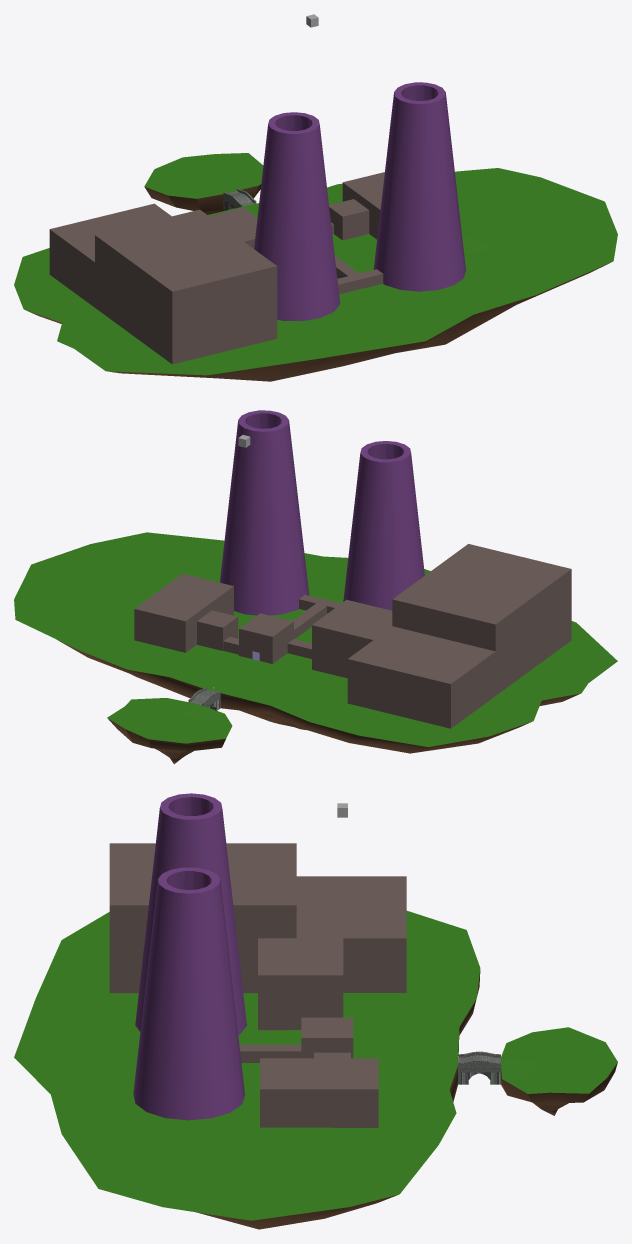
The model's file is factoryPast.fbx.
The picture shows the model from 3 angles, top to bottom: view 1: azimuth 30°, elevation 25°; view 2: azimuth 150°, elevation 25°; view 3: azimuth 270°, elevation 25°; orthographic projection. The views are drawn at different scales.
Parts seen in each view (by area): view 1: mainIsland, pCylinder5, pCylinder4, pCube39, pCube40, pCube41, spawnIsland, pCube34, pCube26, pCube15, pCube21, Bridge:Bridge; view 2: mainIsland, pCylinder5, pCylinder4, pCube39, pCube41, pCube34, spawnIsland, pCube38, pCube42, pCube26, pCube33, pCube22 (+6 smaller); view 3: mainIsland, pCylinder5, pCube34, pCube36, pCylinder4, spawnIsland, pCube41, pCube25, pCube31, pCube26, pCube10, Bridge:Bridge (+2 smaller).
Part boxes in pixels (x1,y1,x2,y2): mainIsland: (14, 168, 617, 381); pCylinder5: (373, 82, 465, 291); pCylinder4: (254, 112, 340, 320); pCube39: (50, 232, 173, 363); pCube40: (171, 266, 275, 364); pCube41: (98, 210, 275, 292); spawnIsland: (144, 153, 263, 214); pCube34: (49, 203, 257, 264); pCube26: (342, 172, 384, 211); pCube15: (344, 212, 369, 239); pCube21: (342, 184, 380, 239); Bridge:Bridge: (223, 188, 256, 210); mainIsland: (14, 532, 617, 753); pCylinder5: (220, 410, 309, 615); pCylinder4: (343, 441, 424, 610); pCube39: (451, 568, 571, 727); pCube41: (394, 544, 569, 623); pCube34: (312, 599, 496, 685); spawnIsland: (107, 698, 232, 764); pCube38: (347, 660, 451, 728); pCube42: (392, 599, 496, 651); pCube26: (134, 573, 233, 622); pCube33: (313, 627, 371, 678); pCube22: (136, 611, 183, 652); mainIsland: (14, 911, 480, 1229); pCylinder5: (133, 867, 244, 1120); pCube34: (258, 876, 406, 977); pCube36: (109, 904, 404, 992); pCylinder4: (135, 793, 246, 1035); spawnIsland: (501, 1027, 617, 1115); pCube41: (109, 844, 294, 907); pCube25: (260, 1091, 378, 1127); pCube31: (258, 977, 343, 1029); pCube26: (260, 1058, 378, 1091); pCube10: (301, 1017, 353, 1039); Bridge:Bridge: (458, 1051, 500, 1084).
Bounding box in the file's own units: 1244 × 661 × 971.
